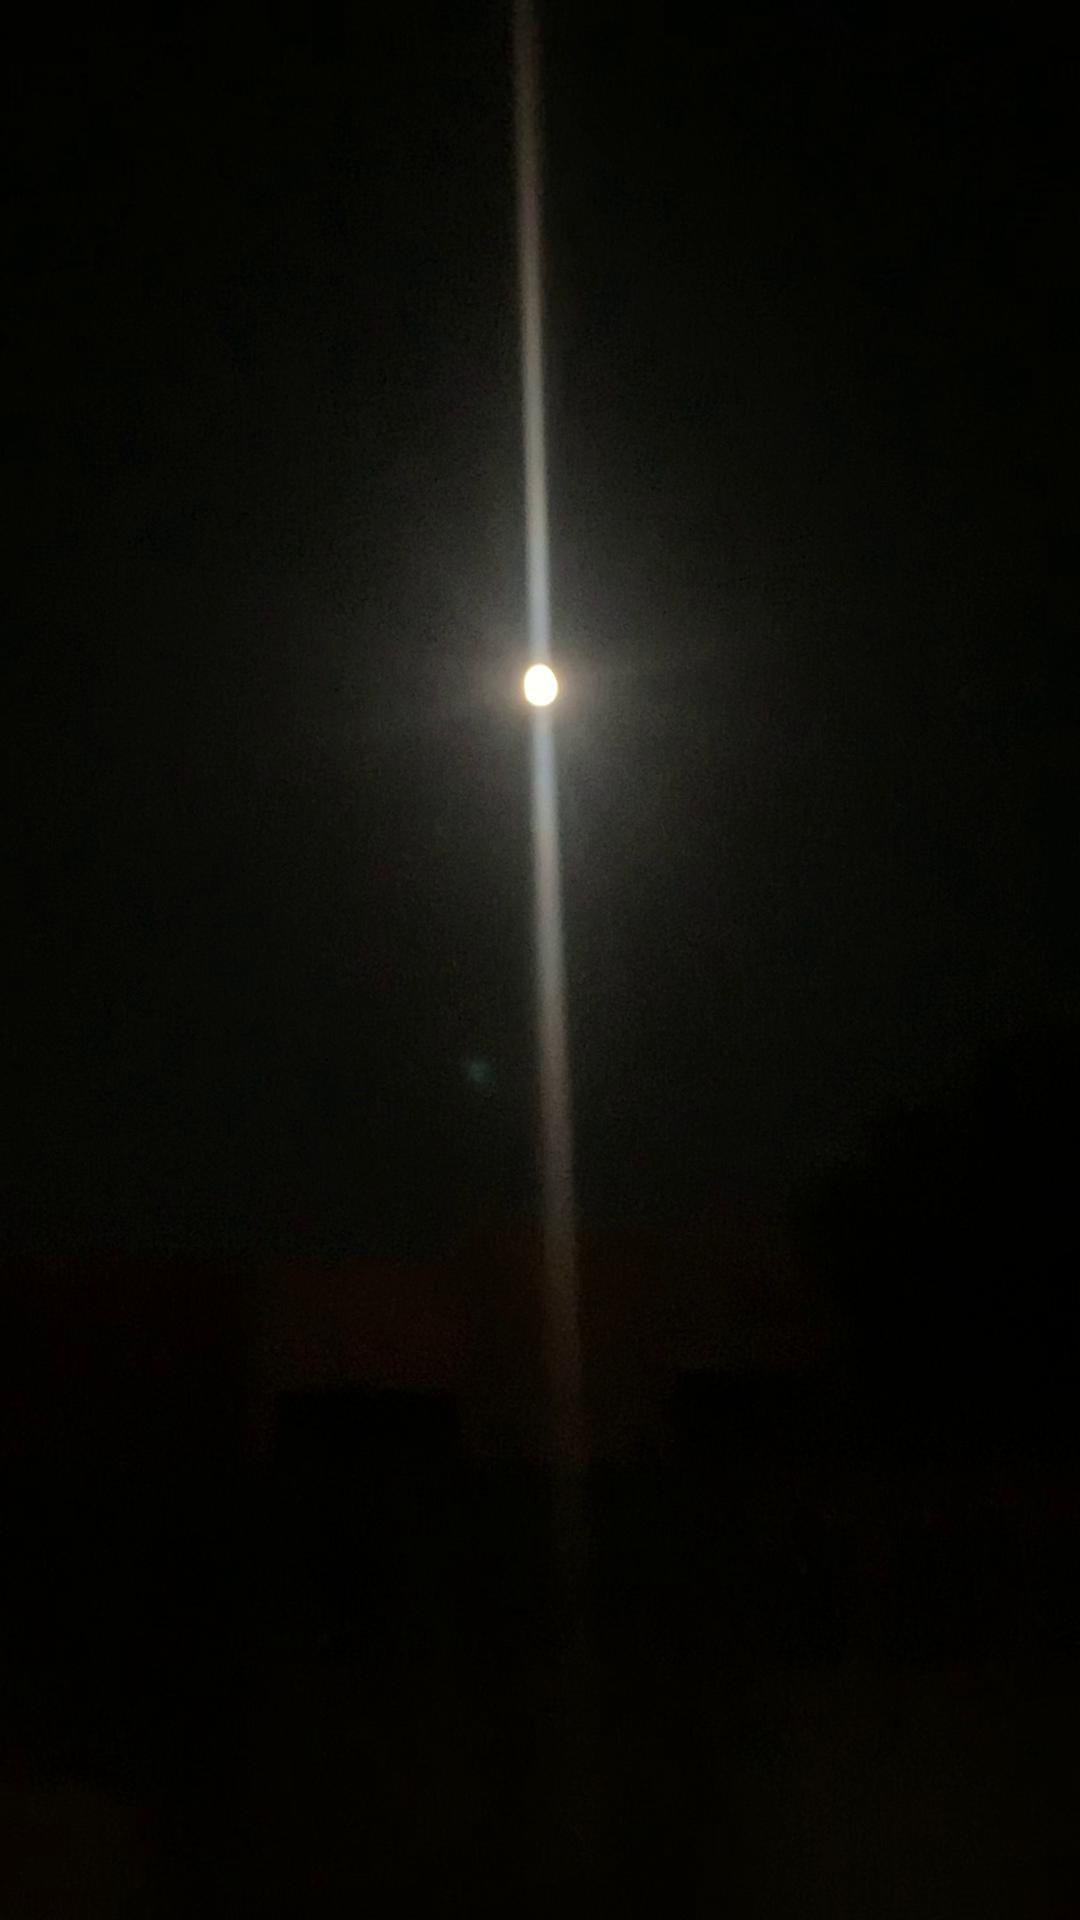moon: (497, 641, 605, 741)
